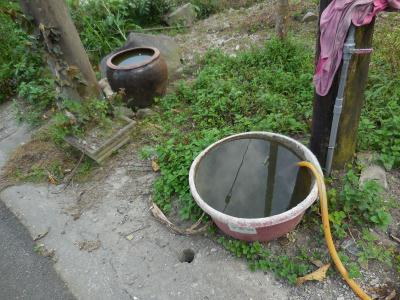bowl: (106, 44, 170, 109)
bucket: (187, 131, 321, 243)
